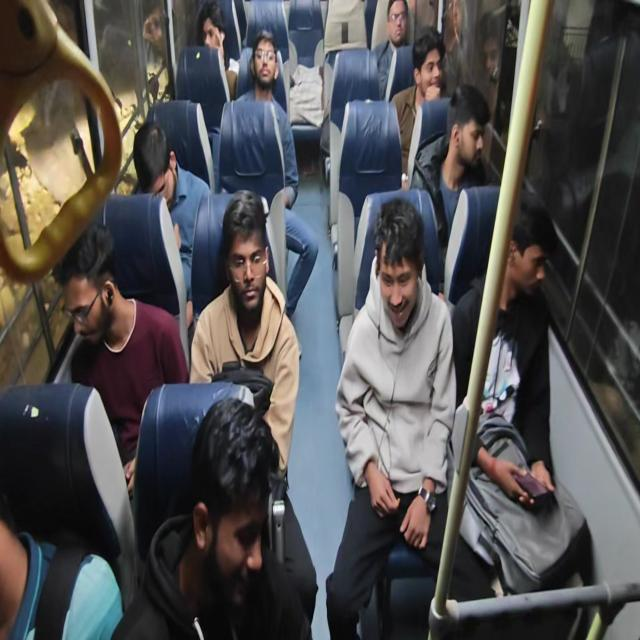person: (172, 374, 298, 623), (41, 227, 132, 380), (0, 453, 71, 640), (199, 191, 273, 327), (370, 213, 451, 334), (482, 224, 554, 338), (278, 50, 342, 172), (132, 124, 200, 212), (451, 96, 483, 176), (389, 0, 429, 61), (403, 44, 436, 114), (198, 8, 232, 68), (245, 34, 276, 94)
